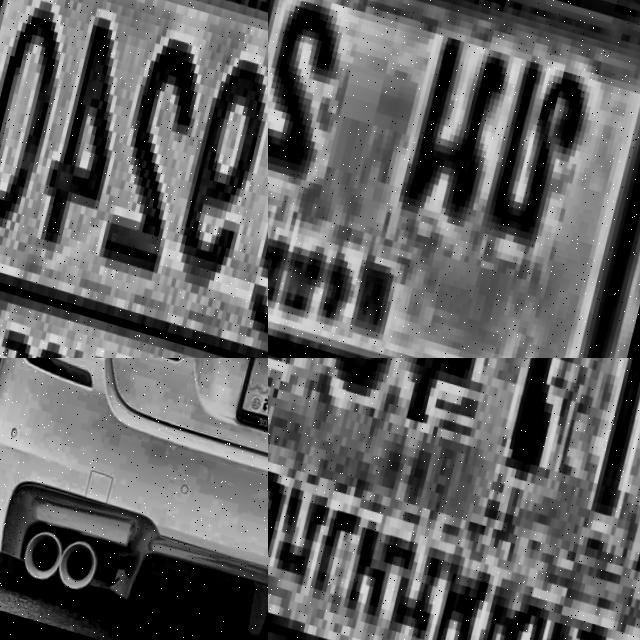license-plate: (268, 0, 640, 358), (268, 358, 640, 640), (0, 0, 268, 358)
